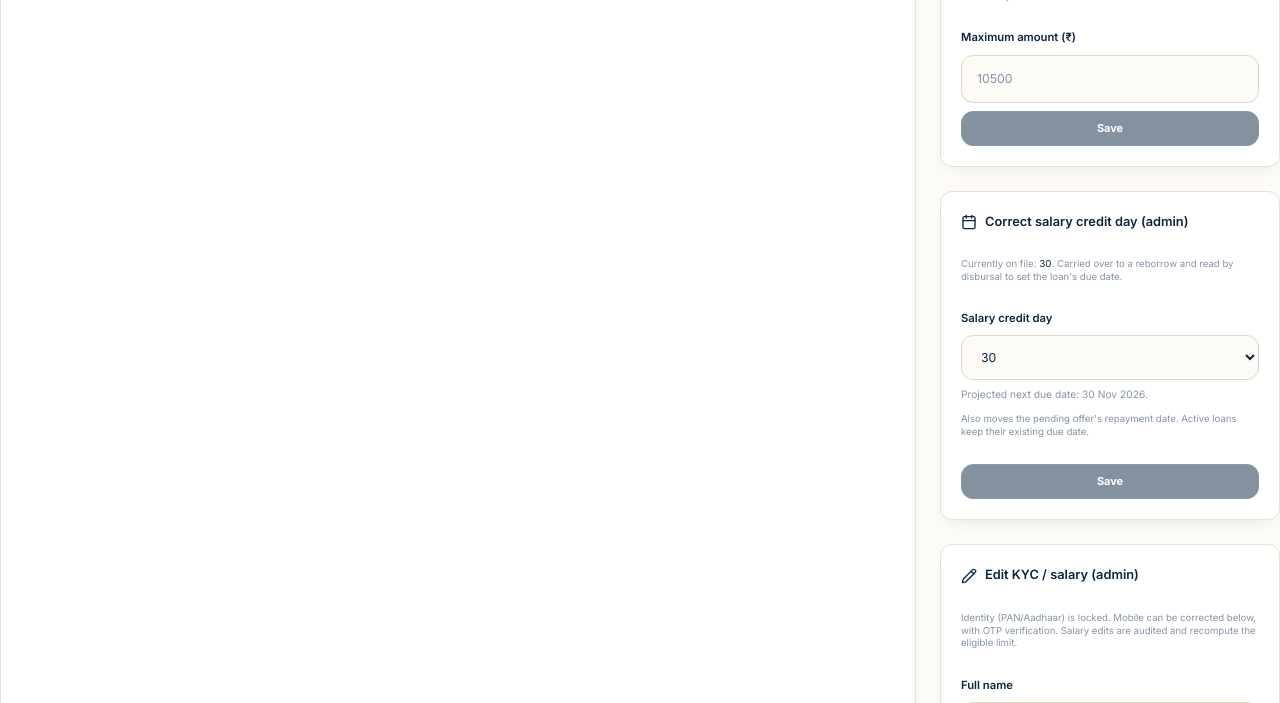
Scenario: salary-day 40-day note › announces the note in the already-mounted region when a day change pushes past 40 days
(page scrolled)
Select "5" in the dropdown labelled "Salary credit day": (1110, 358) [961,335,1259,380]
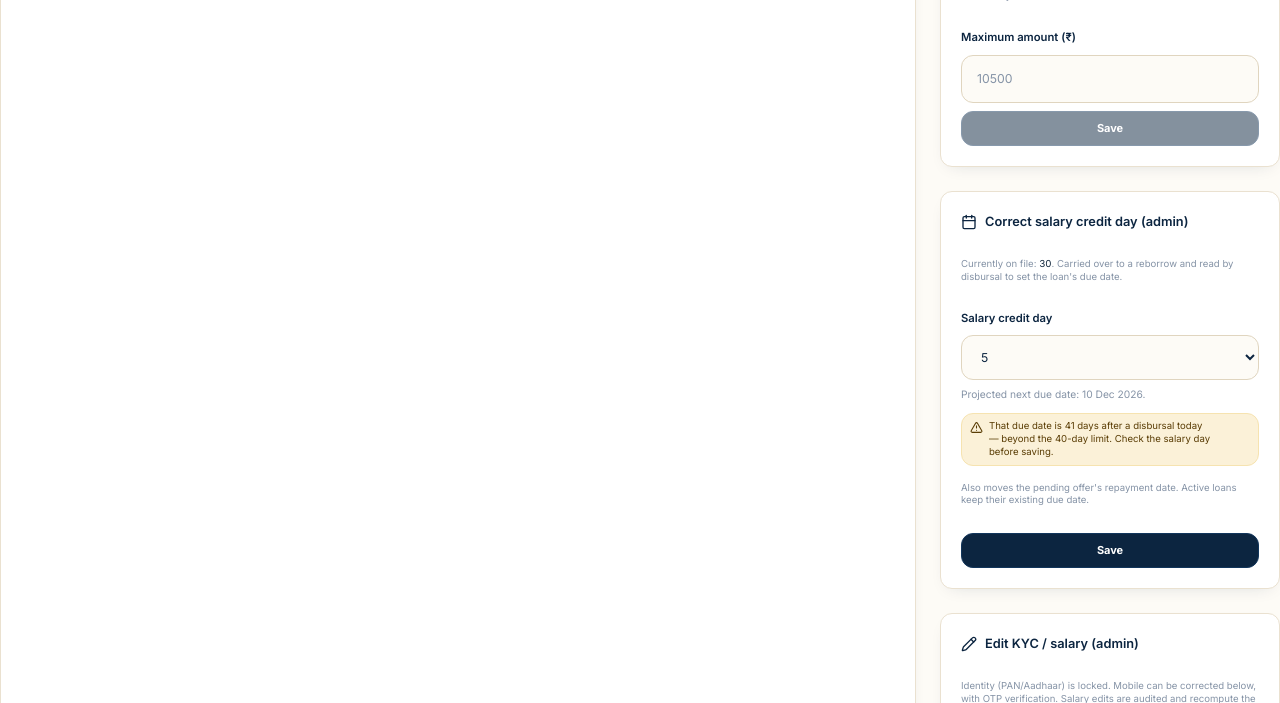
expect the message shows "That due date is 41 days after a disbursal today": met, box [961,413,1259,466]
